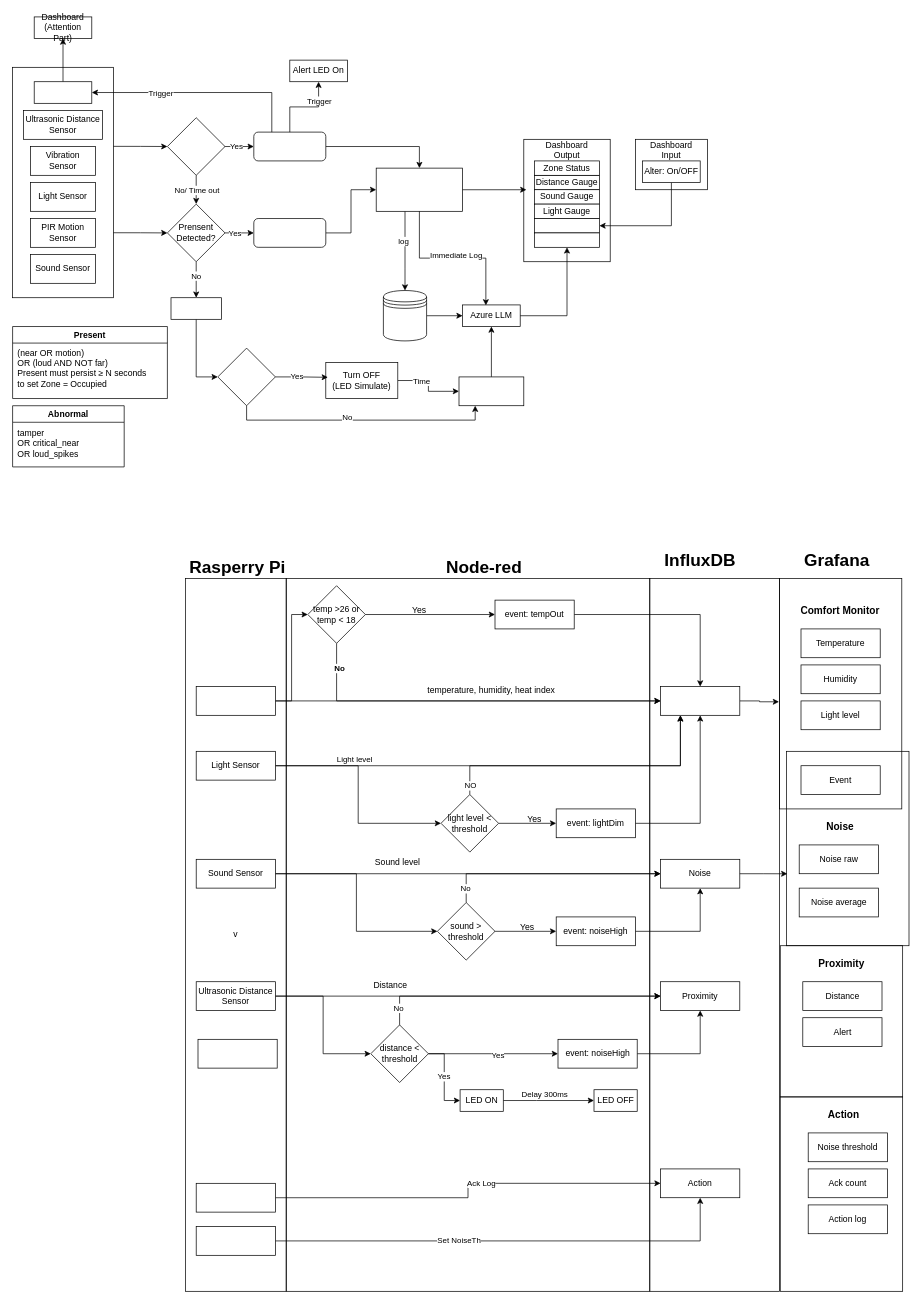
Some shapes in this 922 by 1304 pixel diagram are drawn without their labels. The shapes that lost their labels are listed below. From the top down, each one's centre as x and y in pixels, then its label:
At point 62,92: "Camera".
At point 196,146: "Abnormal Action?".
At point 289,146: "Zone = Alert".
At point 419,189: "Azure IoT Central".
At point 289,232: "Zone = Occupied".
At point 566,225: "Alert Inform".
At point 566,239: "AI Report".
At point 195,308: "Vacant".
At point 405,315: "SQLite Event Log".
At point 246,376: "Office Light On?".
At point 491,391: "Energy Saving Calculate".
At point 235,700: "DTH Sensor".
At point 700,700: "Comfort".
At point 237,1053: "Red LED".
At point 235,1197: "Button".
At point 235,1240: "Rotary".
